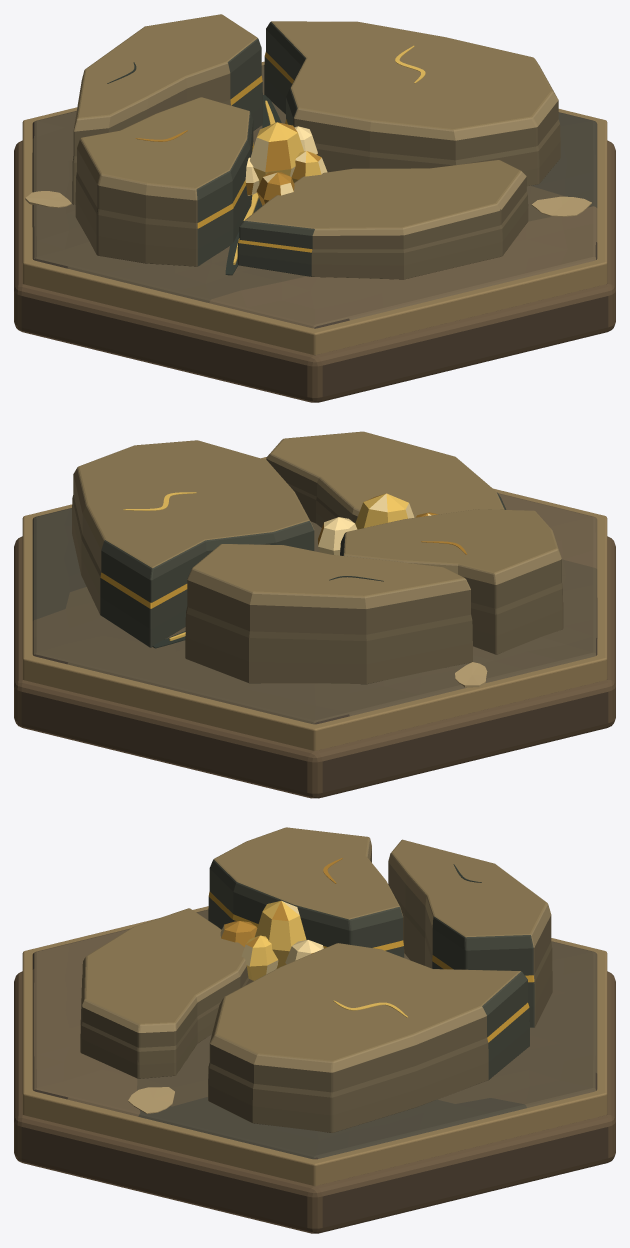
The model's file is gold.glb.
3 renders of one model, top to bottom at view 1: azimuth 30°, elevation 25°; view 2: azimuth 150°, elevation 25°; view 3: azimuth 270°, elevation 25°, orthographic.
Parts seen in each view (by area): view 1: Hex_Gold_Plateau_East, Hex_Gold_Base, Hex_Gold_Terrain, Hex_Gold_Broken_Foreground_Ledge, Hex_Gold_Plateau_West, Hex_Gold_Rim, Hex_Gold_Plateau_North, Hex_Gold_Nugget_Deposit, Hex_Gold_Dust_Accents, Hex_Gold_Rift_Floor, Hex_Gold_Exposed_Gold_Seams; view 2: Hex_Gold_Plateau_North, Hex_Gold_Base, Hex_Gold_Plateau_East, Hex_Gold_Terrain, Hex_Gold_Rim, Hex_Gold_Plateau_West, Hex_Gold_Broken_Foreground_Ledge, Hex_Gold_Nugget_Deposit, Hex_Gold_Dust_Accents; view 3: Hex_Gold_Plateau_East, Hex_Gold_Terrain, Hex_Gold_Base, Hex_Gold_Broken_Foreground_Ledge, Hex_Gold_Rim, Hex_Gold_Plateau_North, Hex_Gold_Plateau_West, Hex_Gold_Nugget_Deposit, Hex_Gold_Dust_Accents.
Boxes of the visible parts, bbox=[...] form: Hex_Gold_Plateau_East: bbox=[264, 21, 560, 185]; Hex_Gold_Base: bbox=[14, 140, 615, 402]; Hex_Gold_Terrain: bbox=[32, 65, 597, 328]; Hex_Gold_Broken_Foreground_Ledge: bbox=[237, 160, 528, 279]; Hex_Gold_Plateau_West: bbox=[75, 97, 253, 266]; Hex_Gold_Rim: bbox=[22, 61, 607, 354]; Hex_Gold_Plateau_North: bbox=[72, 14, 262, 204]; Hex_Gold_Nugget_Deposit: bbox=[245, 122, 327, 205]; Hex_Gold_Dust_Accents: bbox=[25, 191, 591, 216]; Hex_Gold_Rift_Floor: bbox=[107, 62, 281, 275]; Hex_Gold_Exposed_Gold_Seams: bbox=[135, 45, 425, 264]; Hex_Gold_Plateau_North: bbox=[185, 544, 472, 684]; Hex_Gold_Base: bbox=[14, 536, 615, 798]; Hex_Gold_Plateau_East: bbox=[72, 440, 314, 647]; Hex_Gold_Terrain: bbox=[32, 493, 597, 724]; Hex_Gold_Rim: bbox=[22, 457, 607, 750]; Hex_Gold_Plateau_West: bbox=[340, 509, 563, 654]; Hex_Gold_Broken_Foreground_Ledge: bbox=[266, 431, 506, 527]; Hex_Gold_Nugget_Deposit: bbox=[318, 493, 438, 555]; Hex_Gold_Dust_Accents: bbox=[455, 662, 487, 687]; Hex_Gold_Plateau_East: bbox=[208, 943, 529, 1132]; Hex_Gold_Terrain: bbox=[32, 909, 597, 1159]; Hex_Gold_Base: bbox=[14, 971, 615, 1233]; Hex_Gold_Broken_Foreground_Ledge: bbox=[80, 908, 253, 1078]; Hex_Gold_Rim: bbox=[22, 906, 607, 1185]; Hex_Gold_Plateau_North: bbox=[388, 839, 552, 1027]; Hex_Gold_Plateau_West: bbox=[208, 827, 404, 957]; Hex_Gold_Nugget_Deposit: bbox=[220, 900, 323, 980]; Hex_Gold_Dust_Accents: bbox=[128, 1087, 174, 1113].
Bounding box in the file's own units: 2.38 × 0.6232 × 2.08.
